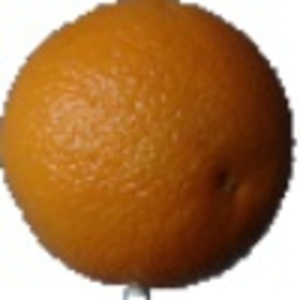laranja: (3, 2, 295, 295)
